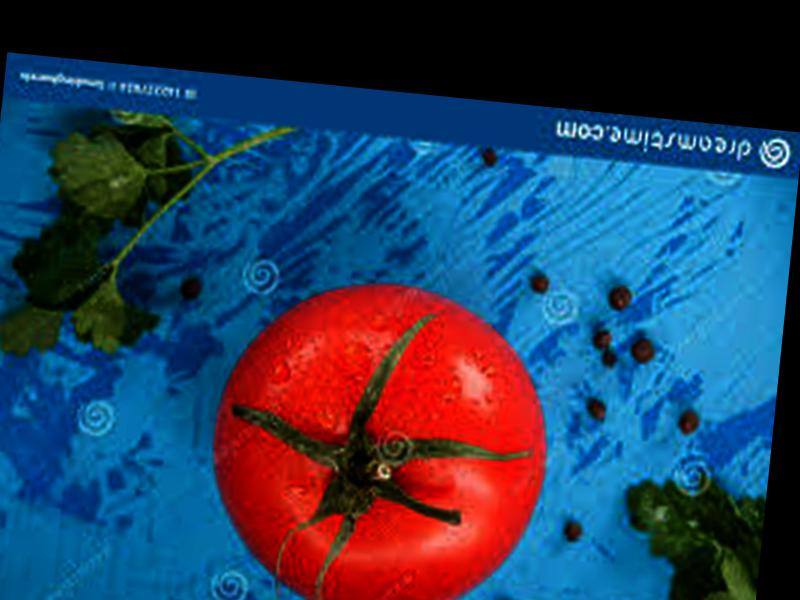Tomato: (197, 267, 561, 600)
